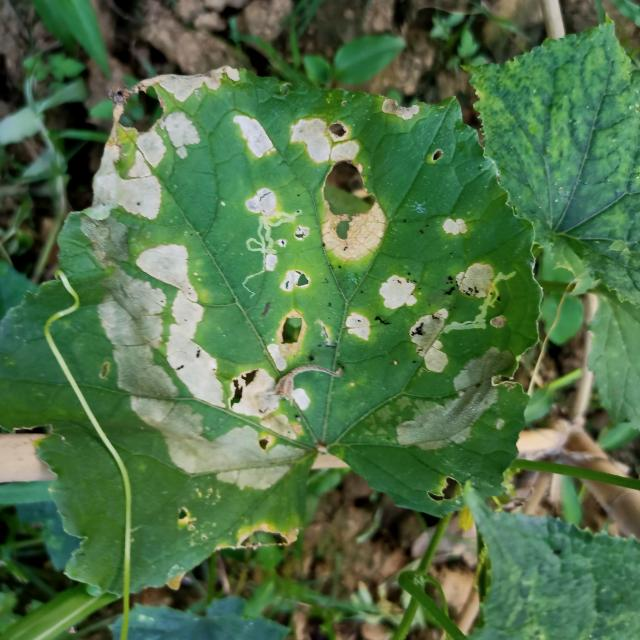disease_cucumber: (82, 76, 424, 255), (95, 240, 323, 494), (334, 207, 517, 460)
